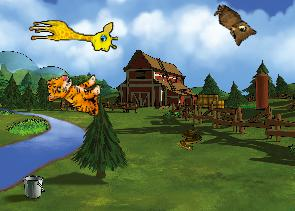giraffe: (28, 20, 118, 52)
owl: (205, 2, 259, 50)
tiger: (45, 69, 104, 121)
